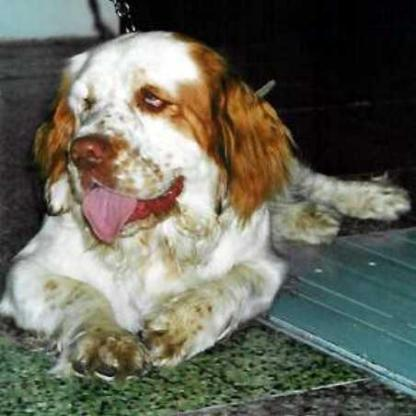clumber: (1, 30, 408, 385)
